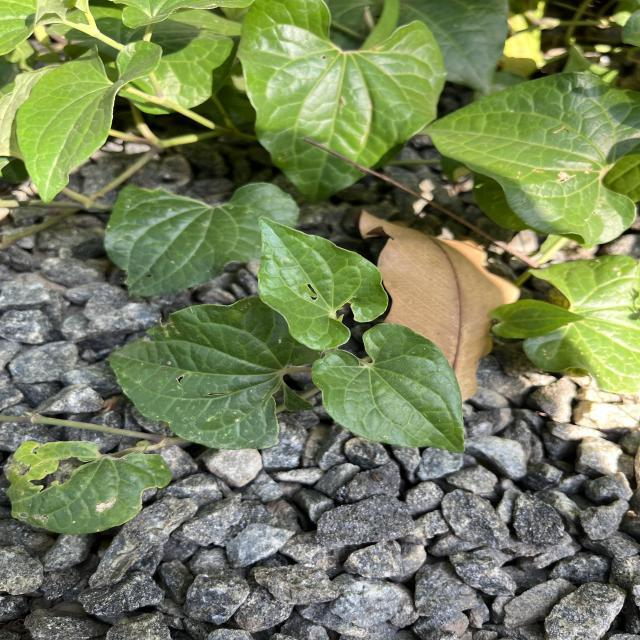Piper longum: (14, 39, 164, 208), (308, 321, 468, 456), (255, 214, 390, 352)
